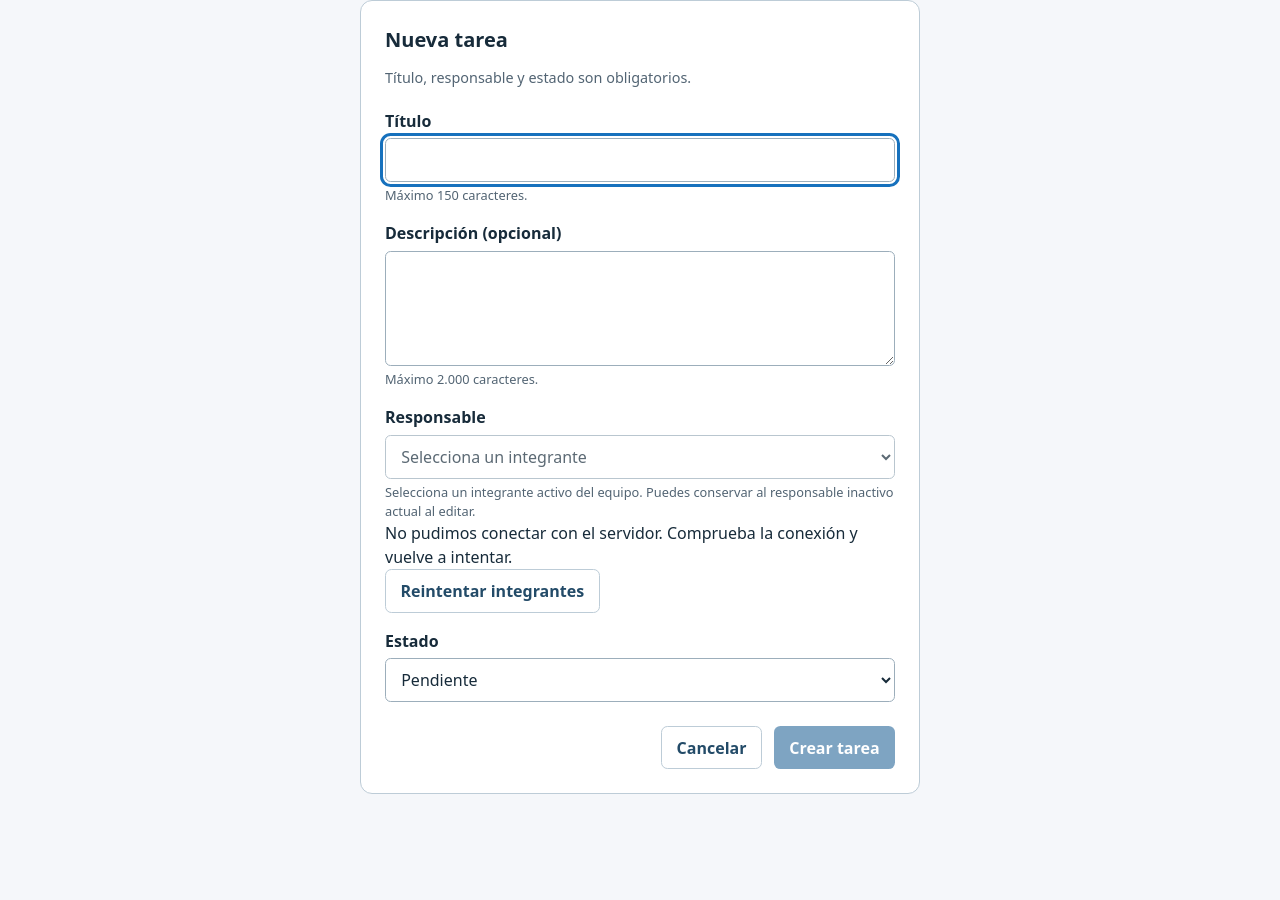
Test: Selector de responsables registrados › muestra un error, conserva los textos y permite recuperar el catálogo
Type "Texto conservado" into the field labelled "Título" at (640, 160), box [385,138,895,182]
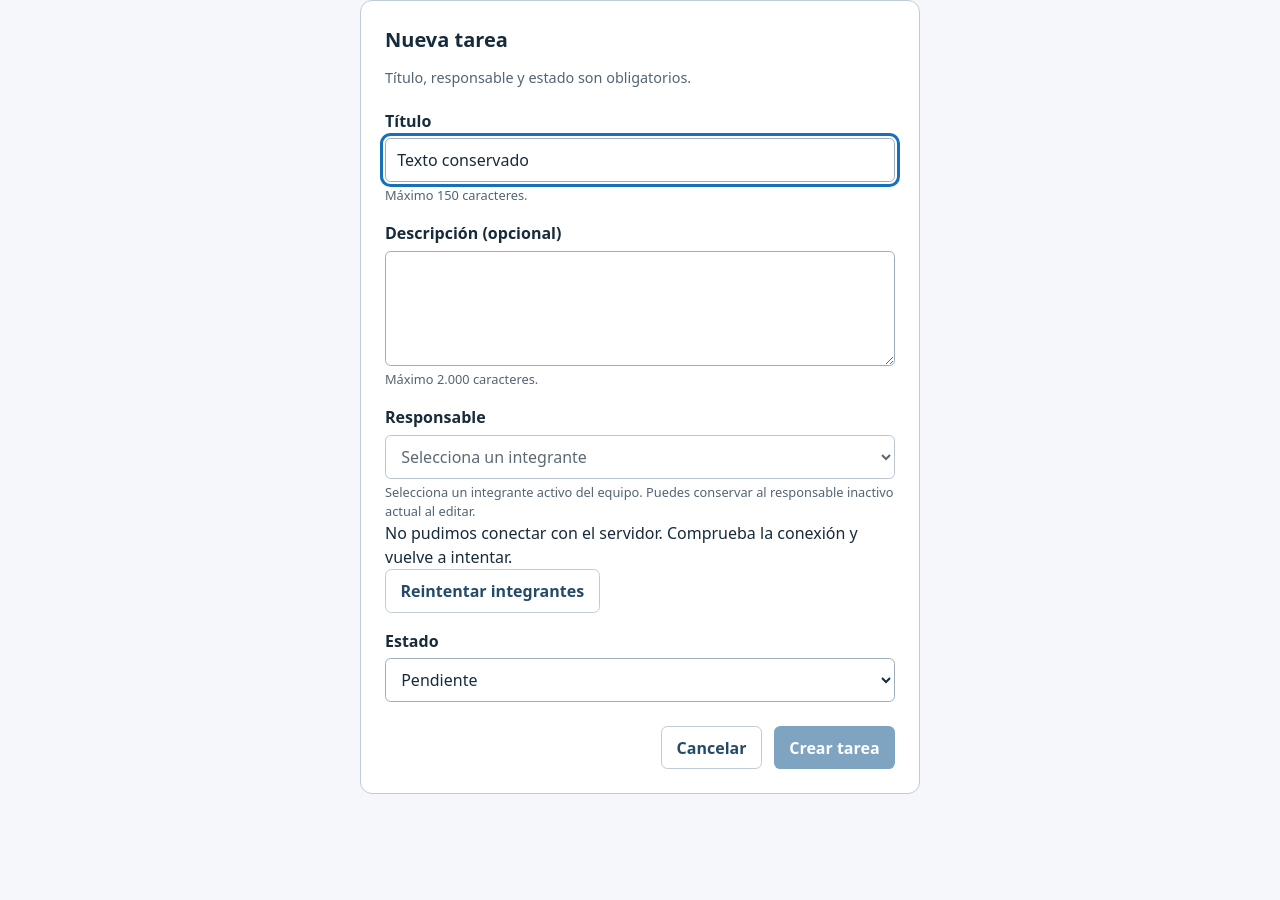
Expected: the message shows "No pudimos conectar", [385,522,858,568]
Expected: the button "Crear tarea" is disabled, [774,726,895,769]
Click the button "Reintentar integrantes" at (492, 591), box [385,569,600,612]
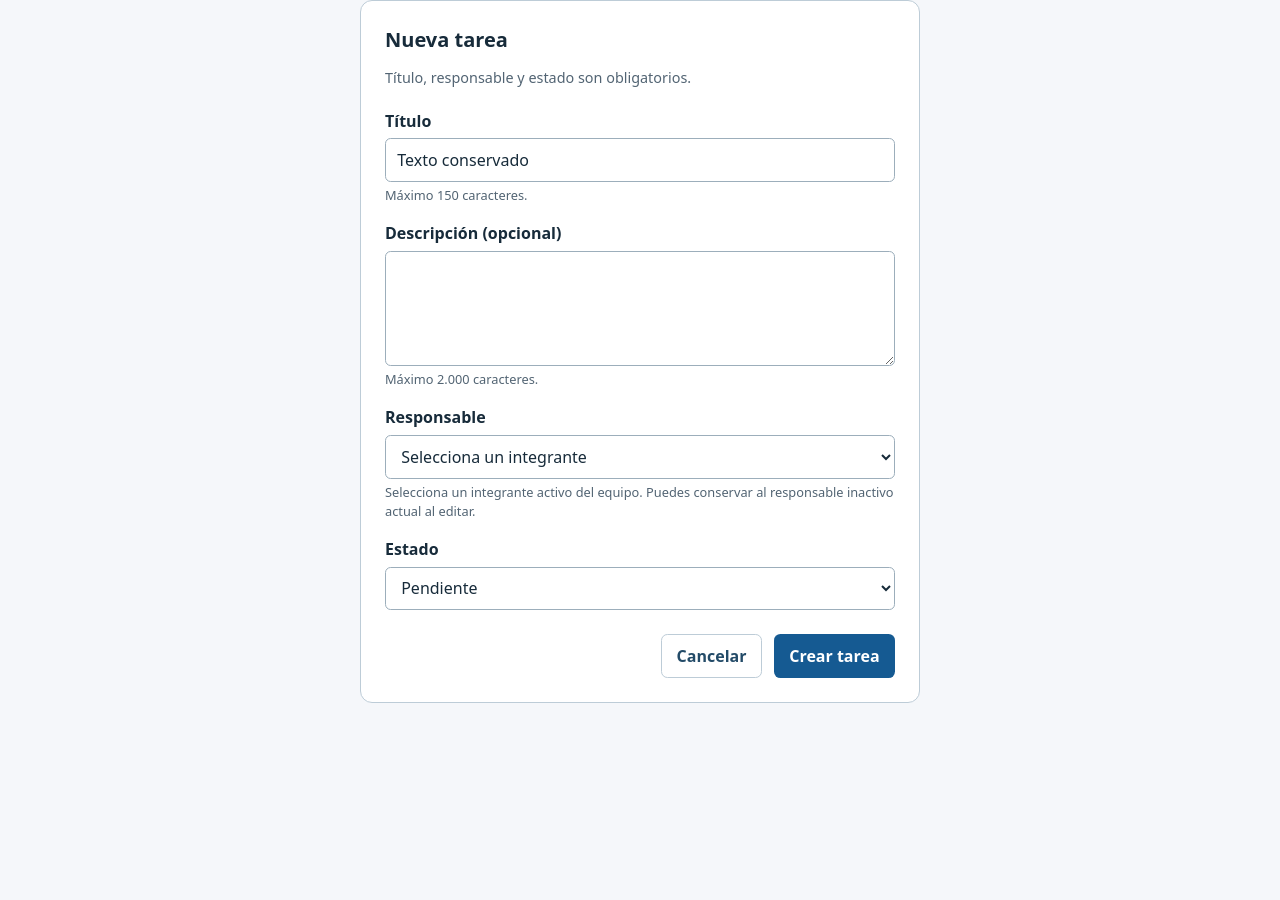
Expected: the dropdown labelled "Responsable" shows "Selecciona un integrante", [385,435,895,479]
Expected: the dropdown labelled "Responsable" is enabled, [385,435,895,479]
